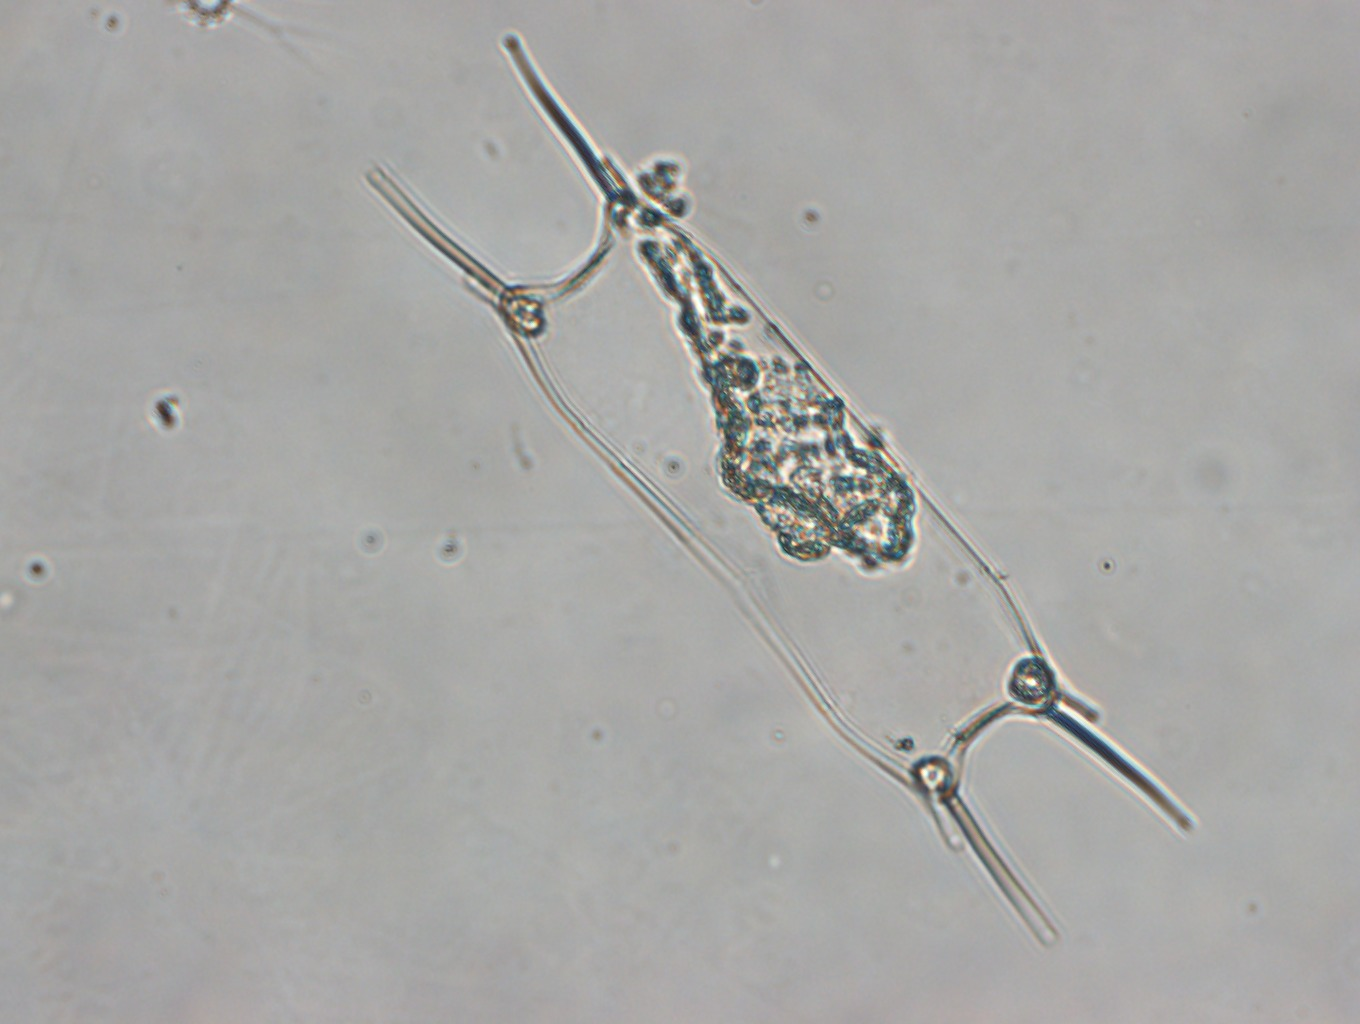biddulphia: (362, 29, 1194, 948)
